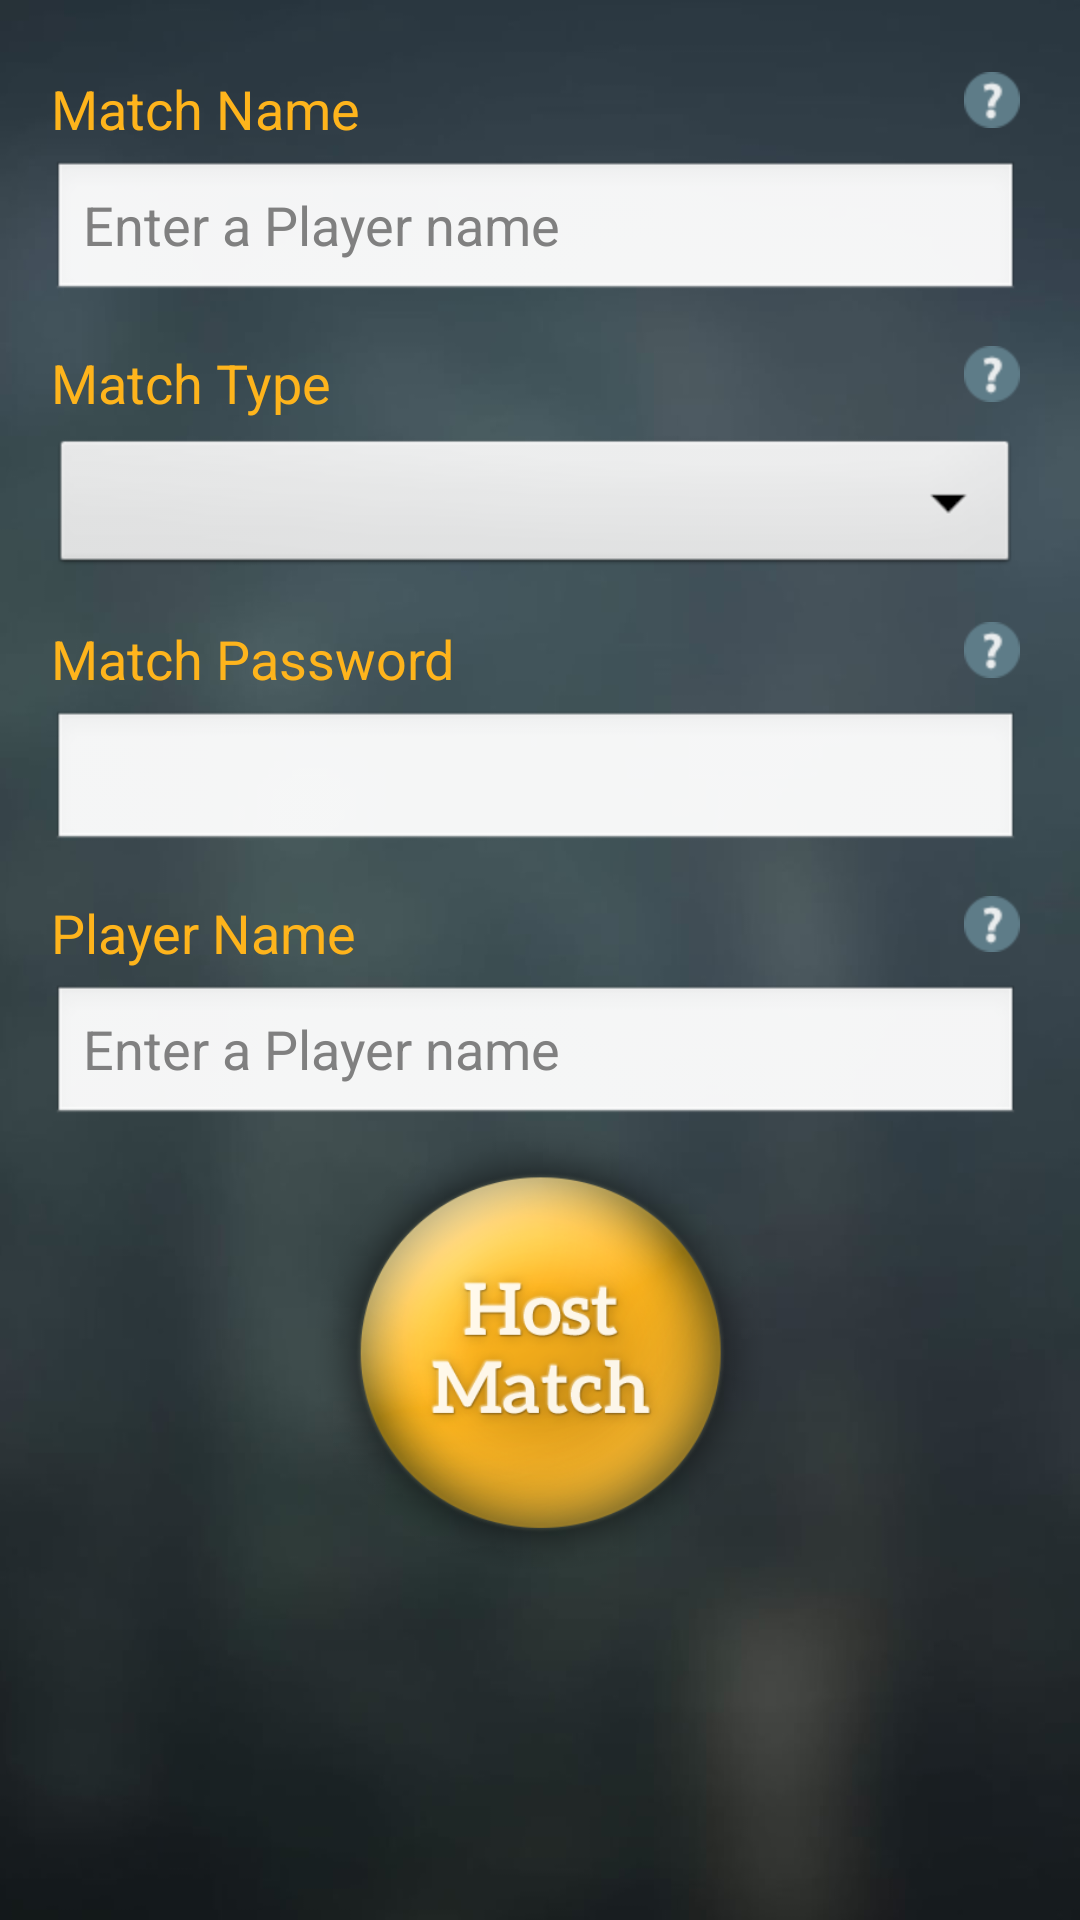

Icon click points for this 1080px×1920px phone screenshot, format point (x, y):
help: point (992, 100), point (992, 374), point (992, 650), point (992, 924)
